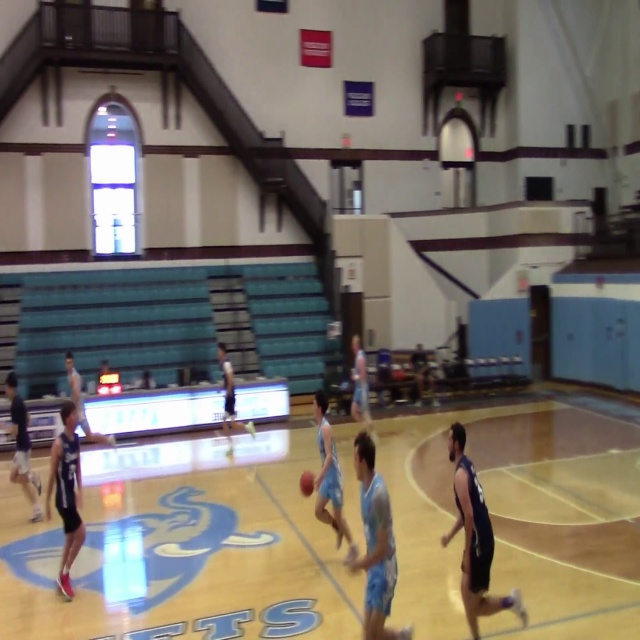Basketball: (299, 470, 315, 497)
